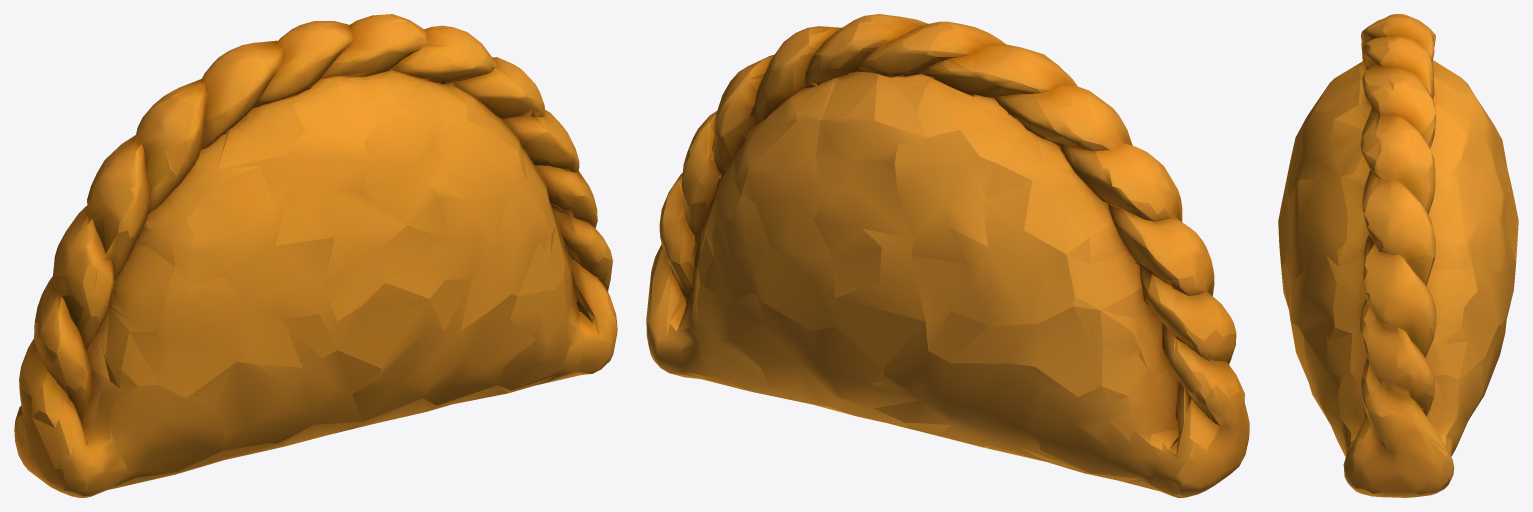
The model's file is food_zone_runtime.glb.
3 renders of one model, left to right at view 1: azimuth 30°, elevation 25°; view 2: azimuth 150°, elevation 25°; view 3: azimuth 270°, elevation 25°, orthographic. The views are drawn at different scales.
Visible parts, largest first — view 1: Mesh_0.002; view 2: Mesh_0.002; view 3: Mesh_0.002.
Boxes of the visible parts, box(x1,y1,x2,y2) form: Mesh_0.002: box(14, 14, 617, 497); Mesh_0.002: box(646, 14, 1249, 497); Mesh_0.002: box(1278, 14, 1518, 497).
Size of the model in its own units: 1.08 by 0.7147 by 0.4452.
Materials: 1 (1 with a texture image).
